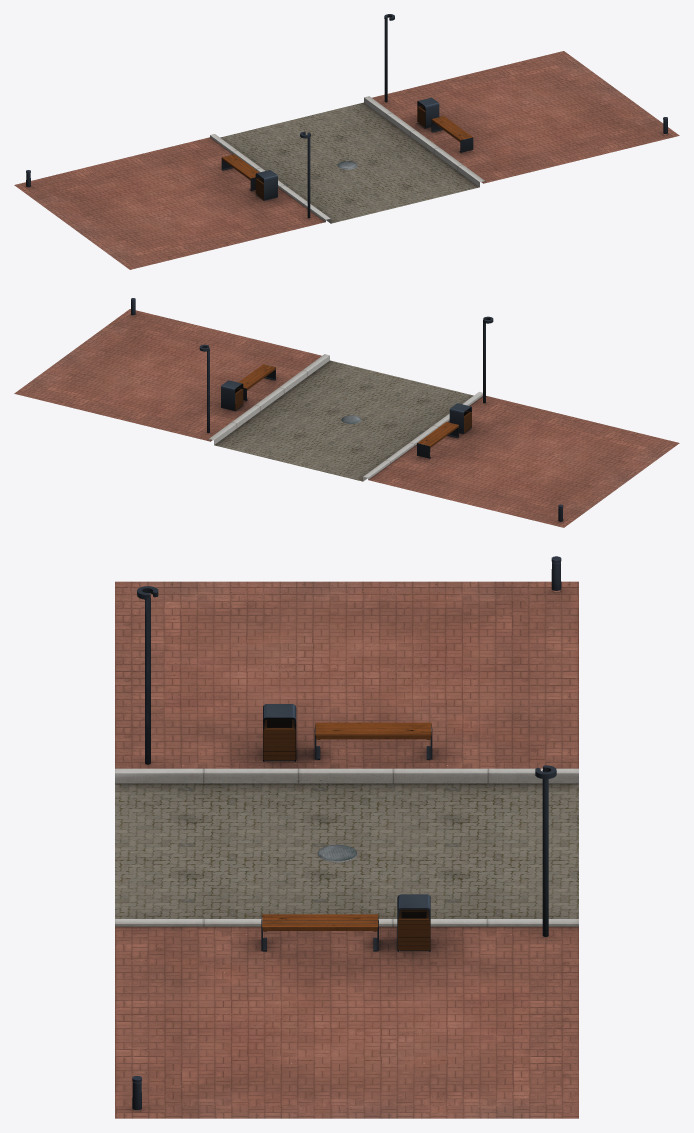
Rendered from street_2.glb.
3 renders of one model, top to bottom at view 1: azimuth 30°, elevation 25°; view 2: azimuth 150°, elevation 25°; view 3: azimuth 270°, elevation 25°, orthographic. The views are drawn at different scales.
Parts seen in each view (by area): view 1: street_2; view 2: street_2; view 3: street_2.
Part boxes in pixels (x1,y1,x2,y2): street_2: (14,14,679,269); street_2: (14,298,679,527); street_2: (115,556,578,1118).
Bounding box in the file's own units: 21.91 × 3.36 × 8.
1 material, 1 textured.
